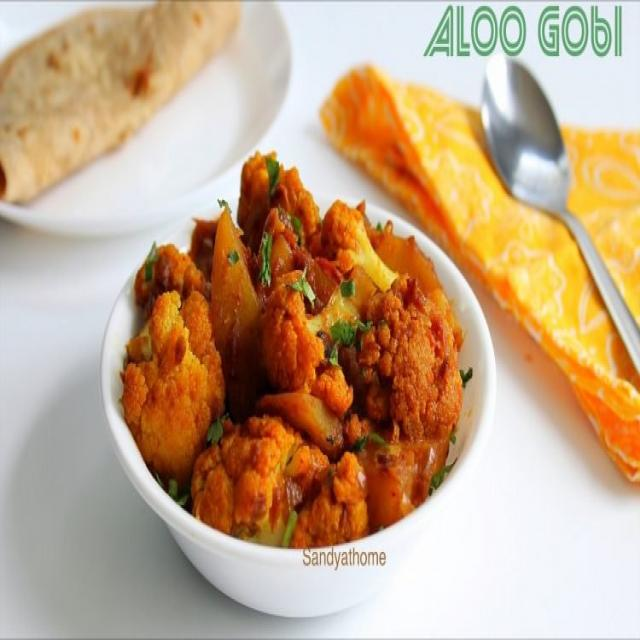Aloo Gobi: (174, 149, 433, 547)
